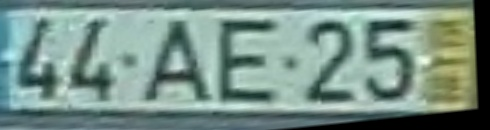2: (302, 17, 359, 104)
4: (62, 17, 119, 107), (11, 15, 65, 104)
5: (360, 17, 417, 105)
A: (138, 16, 217, 104)
E: (215, 16, 281, 107)
